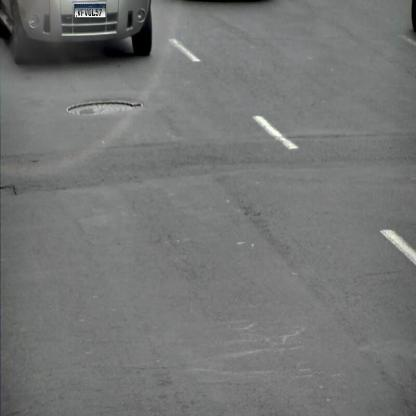PlacaM: (74, 4, 106, 18)
